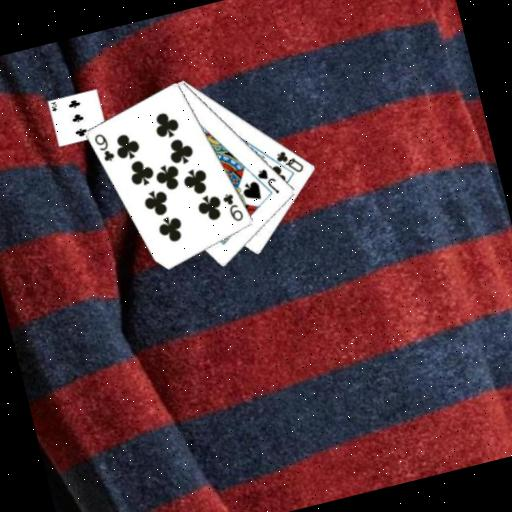9C: (219, 188, 247, 226), (90, 129, 118, 166)
JS: (253, 163, 282, 199)
QC: (272, 144, 307, 179)
